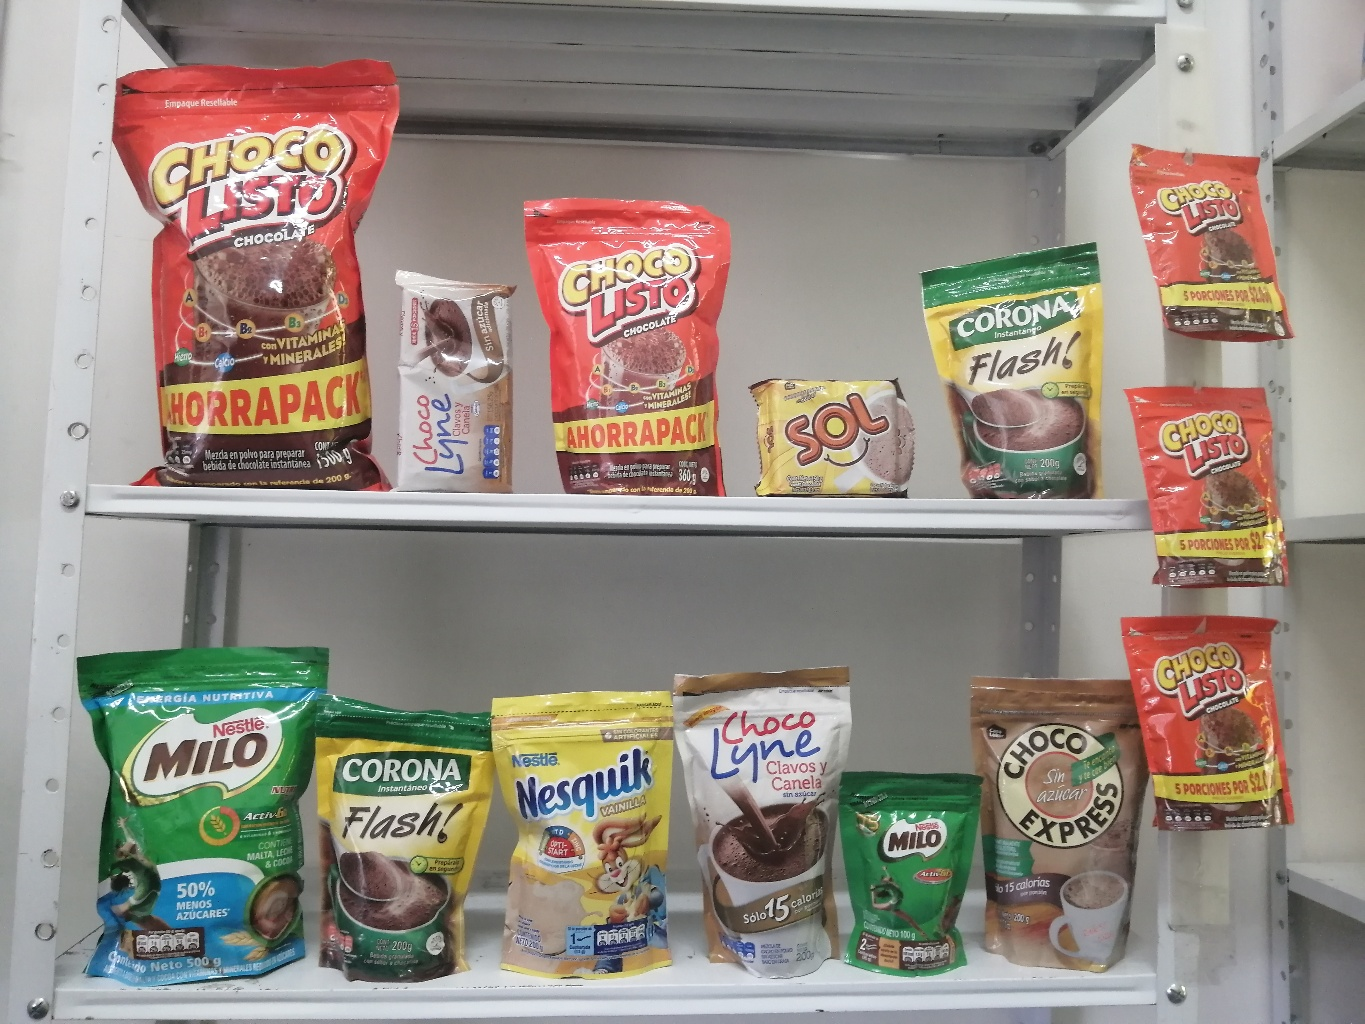COL0170103DYP1,500: (91, 42, 423, 497)
COL0170103DYP36000: (507, 183, 754, 513)
COL0170203DYP10000: (819, 754, 979, 983)
COL0170205DYP50000: (46, 618, 350, 1007)
COL0170306DYP20000: (470, 672, 693, 991)
